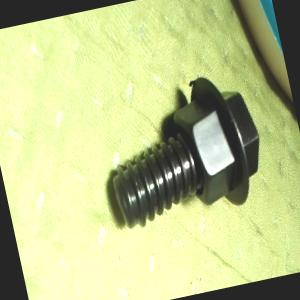parafuso: (93, 66, 274, 233)
